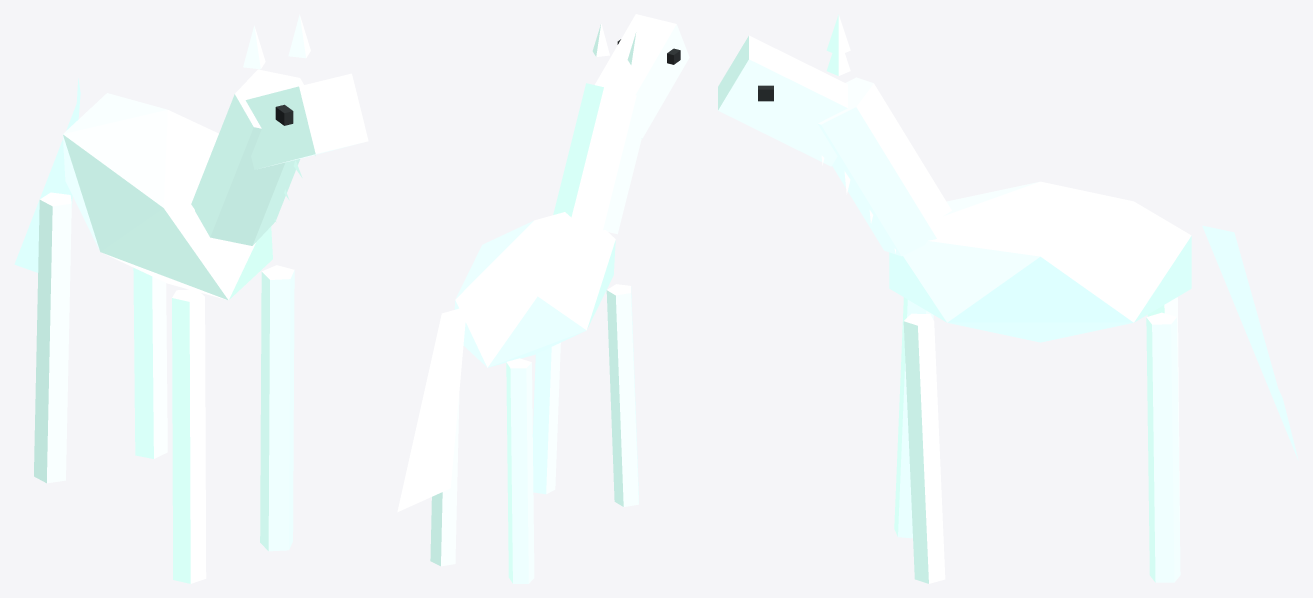
The model's file is ghost_horse.glb.
3 views of the same model, side by side, from view 1: azimuth 30°, elevation 25°; view 2: azimuth 150°, elevation 25°; view 3: azimuth 270°, elevation 25° (orthographic). The views are drawn at different scales.
Parts seen in each view (by area): view 1: spectral barrel, spectral neck, spectral leg, spectral leg.001, spectral leg.002, spectral head, spectral leg.003, wispy tail, pricked ear, pricked ear.001; view 2: spectral barrel, spectral neck, wispy tail, spectral leg.002, spectral leg, spectral head, spectral leg.001, spectral leg.003; view 3: spectral barrel, spectral neck, spectral head, spectral leg.003, spectral leg.001, wispy tail, spectral leg.
Boxes of the visible parts, box(x1,y1,x2,y2) form: spectral barrel: box(62, 93, 272, 300); spectral neck: box(191, 69, 303, 245); spectral leg: box(172, 289, 206, 583); spectral leg.001: box(260, 265, 294, 551); spectral leg.002: box(34, 192, 71, 483); spectral head: box(245, 73, 368, 169); spectral leg.003: box(133, 267, 167, 458); wispy tail: box(14, 78, 80, 272); pricked ear: box(243, 25, 265, 69); pricked ear.001: box(288, 14, 310, 58); spectral barrel: box(454, 212, 615, 367); spectral neck: box(553, 83, 651, 234); wispy tail: box(397, 306, 466, 512); spectral leg.002: box(506, 358, 534, 583); spectral leg: box(606, 284, 638, 506); spectral head: box(595, 14, 689, 138); spectral leg.001: box(532, 342, 560, 494); spectral leg.003: box(430, 394, 459, 566); spectral barrel: box(889, 181, 1191, 342); spectral neck: box(818, 77, 951, 256); spectral head: box(718, 35, 847, 166); spectral leg.003: box(1146, 312, 1180, 582); spectral leg.001: box(903, 313, 945, 583); wispy tail: box(1202, 225, 1298, 460); spectral leg: box(894, 297, 933, 538).
Bounding box in the file's own units: 0.1789 × 0.7257 × 0.7194.
